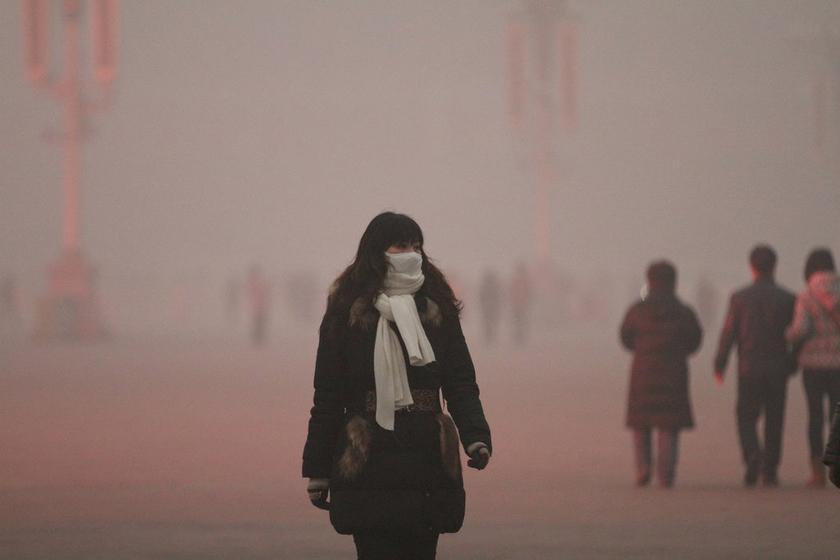person: (299, 209, 492, 560), (713, 242, 804, 490), (619, 258, 703, 491), (784, 246, 840, 487), (246, 261, 272, 344), (509, 260, 534, 343), (481, 267, 504, 342)
